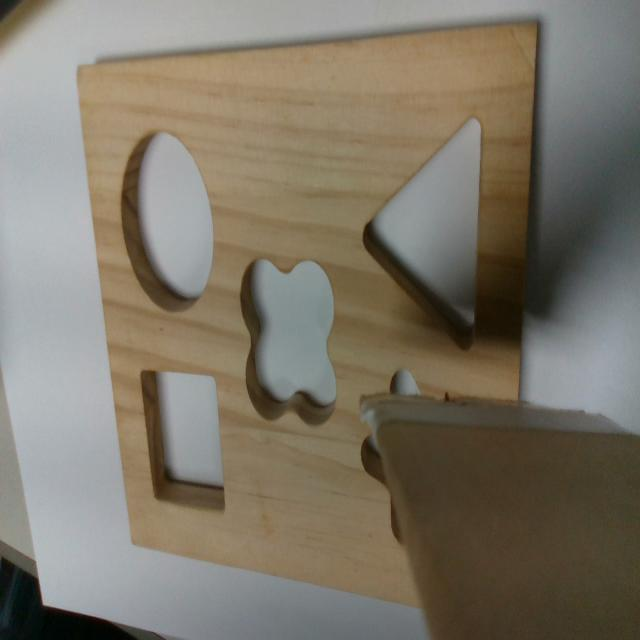circle: (121, 132, 213, 315)
flower: (240, 258, 337, 426)
square: (140, 370, 226, 514)
triangle: (360, 111, 485, 354)
